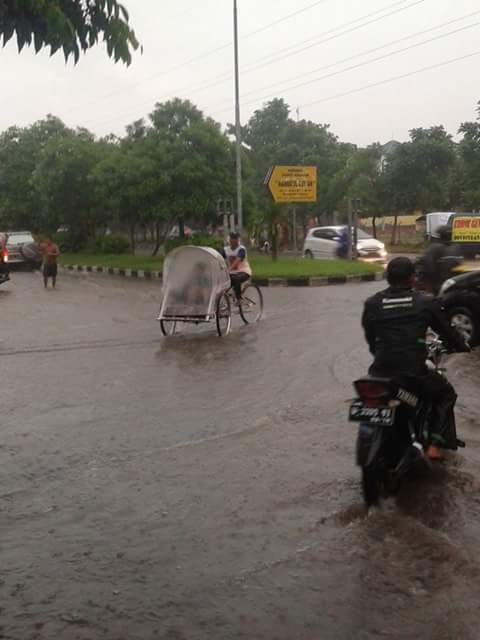plate: (349, 405, 392, 422)
